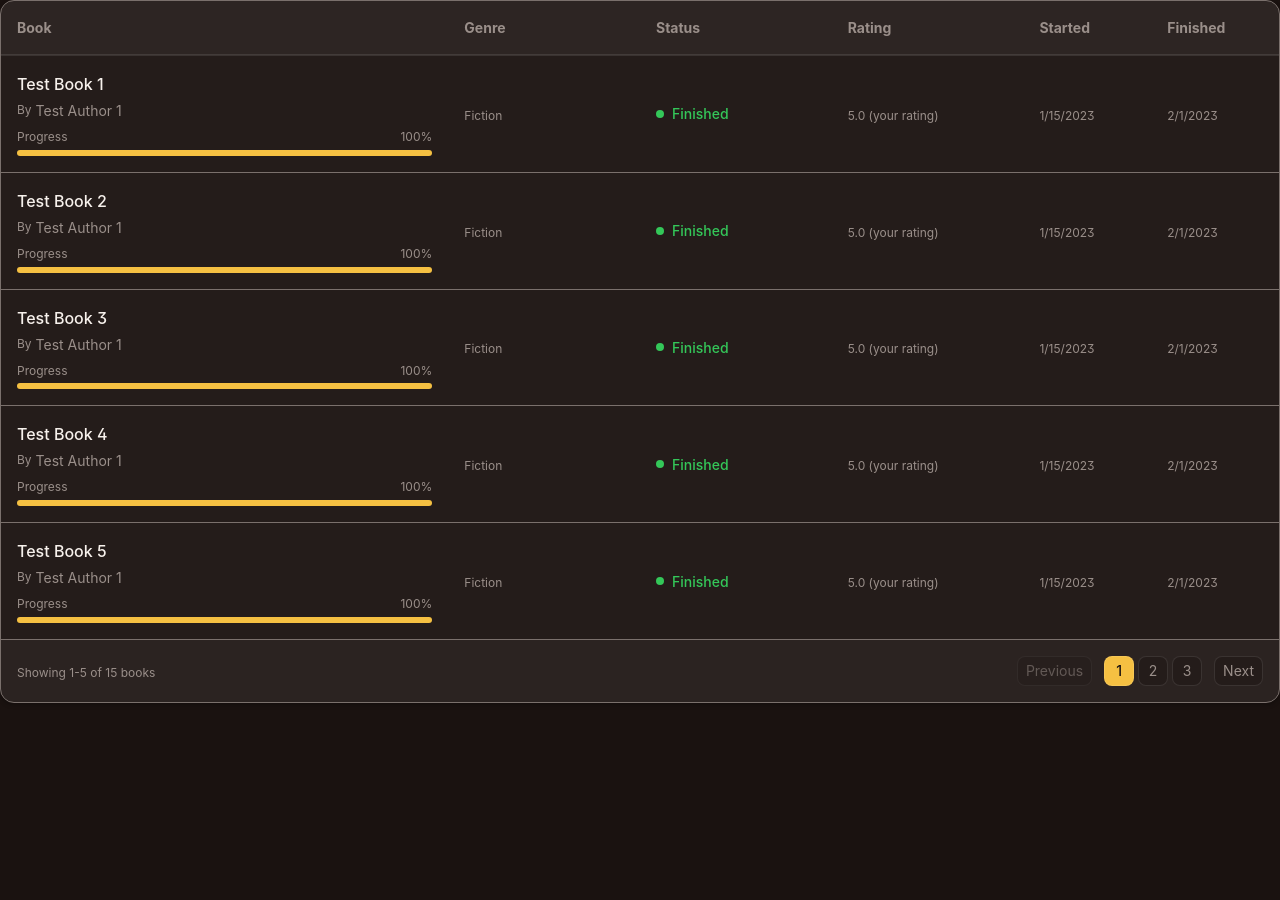
BookTable Component › handles direct page number clicks
This screenshot has width=1280, height=900.
// Click page 2
Click the button "2" at (1153, 671), box [1138, 656, 1168, 686]
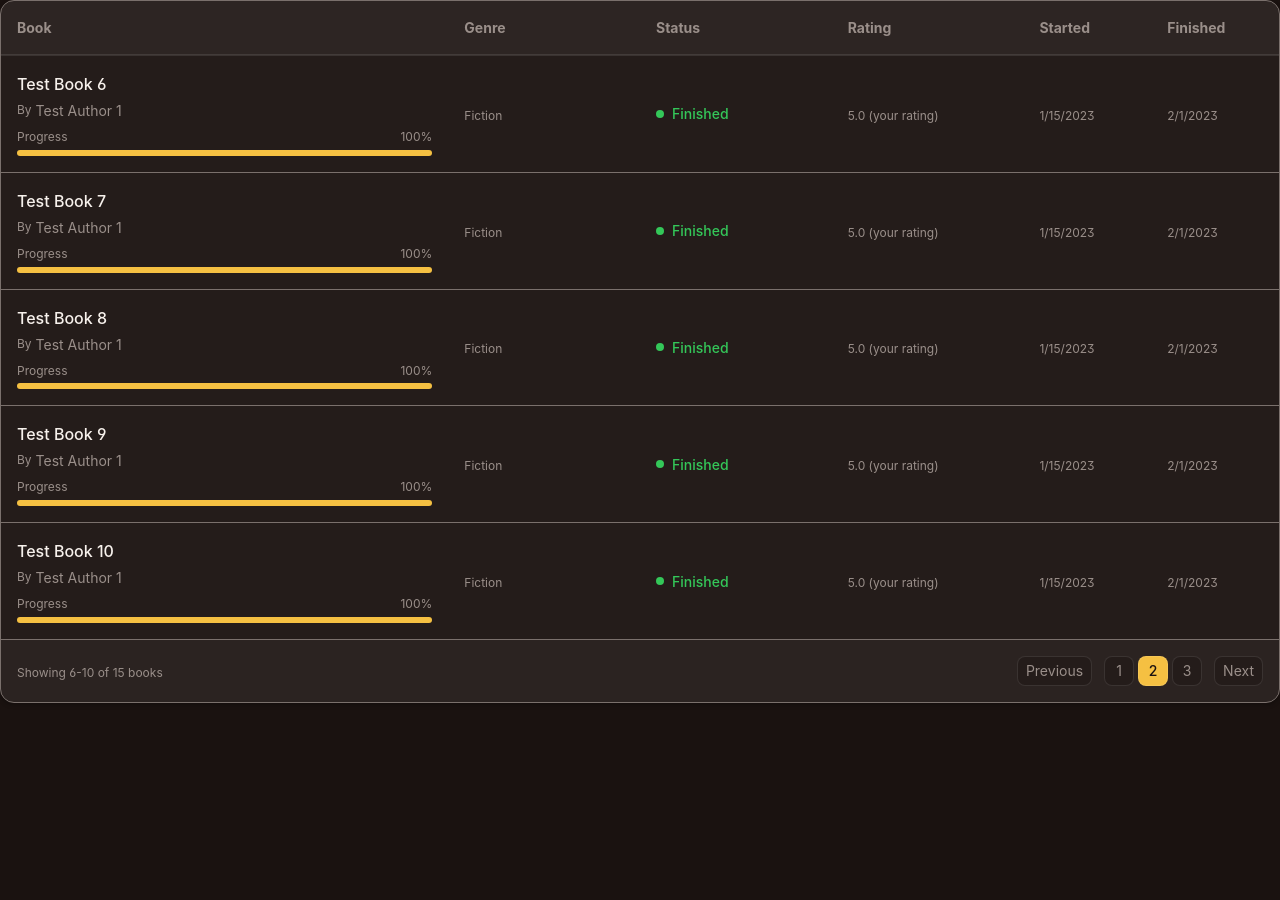
Expected: the text "Test Book 6" is shown, [17, 74, 106, 94]
Expected: the text "Test Book 10" is shown, [17, 541, 114, 561]
Expected: the link "Test Book 5" is gone
